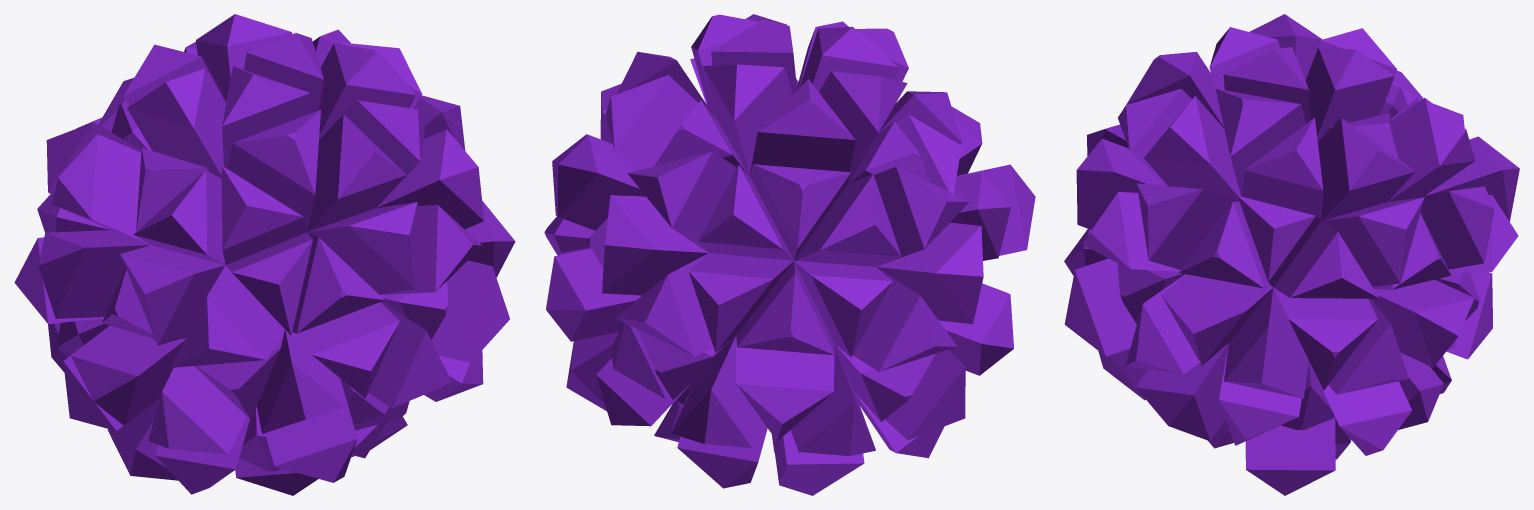
Rendered from Orb.fbx.
3 views of the same model, side by side, from view 1: azimuth 30°, elevation 25°; view 2: azimuth 150°, elevation 25°; view 3: azimuth 270°, elevation 25° (orthographic). The views are drawn at different scales.
Visible parts, largest first — view 1: Orb; view 2: Orb; view 3: Orb.
Boxes of the visible parts, x1,y1,x2,y2 form: Orb: [14, 14, 515, 495]; Orb: [544, 14, 1035, 495]; Orb: [1064, 14, 1519, 495].
Bounding box in the file's own units: 1.65 × 1.62 × 1.63.
